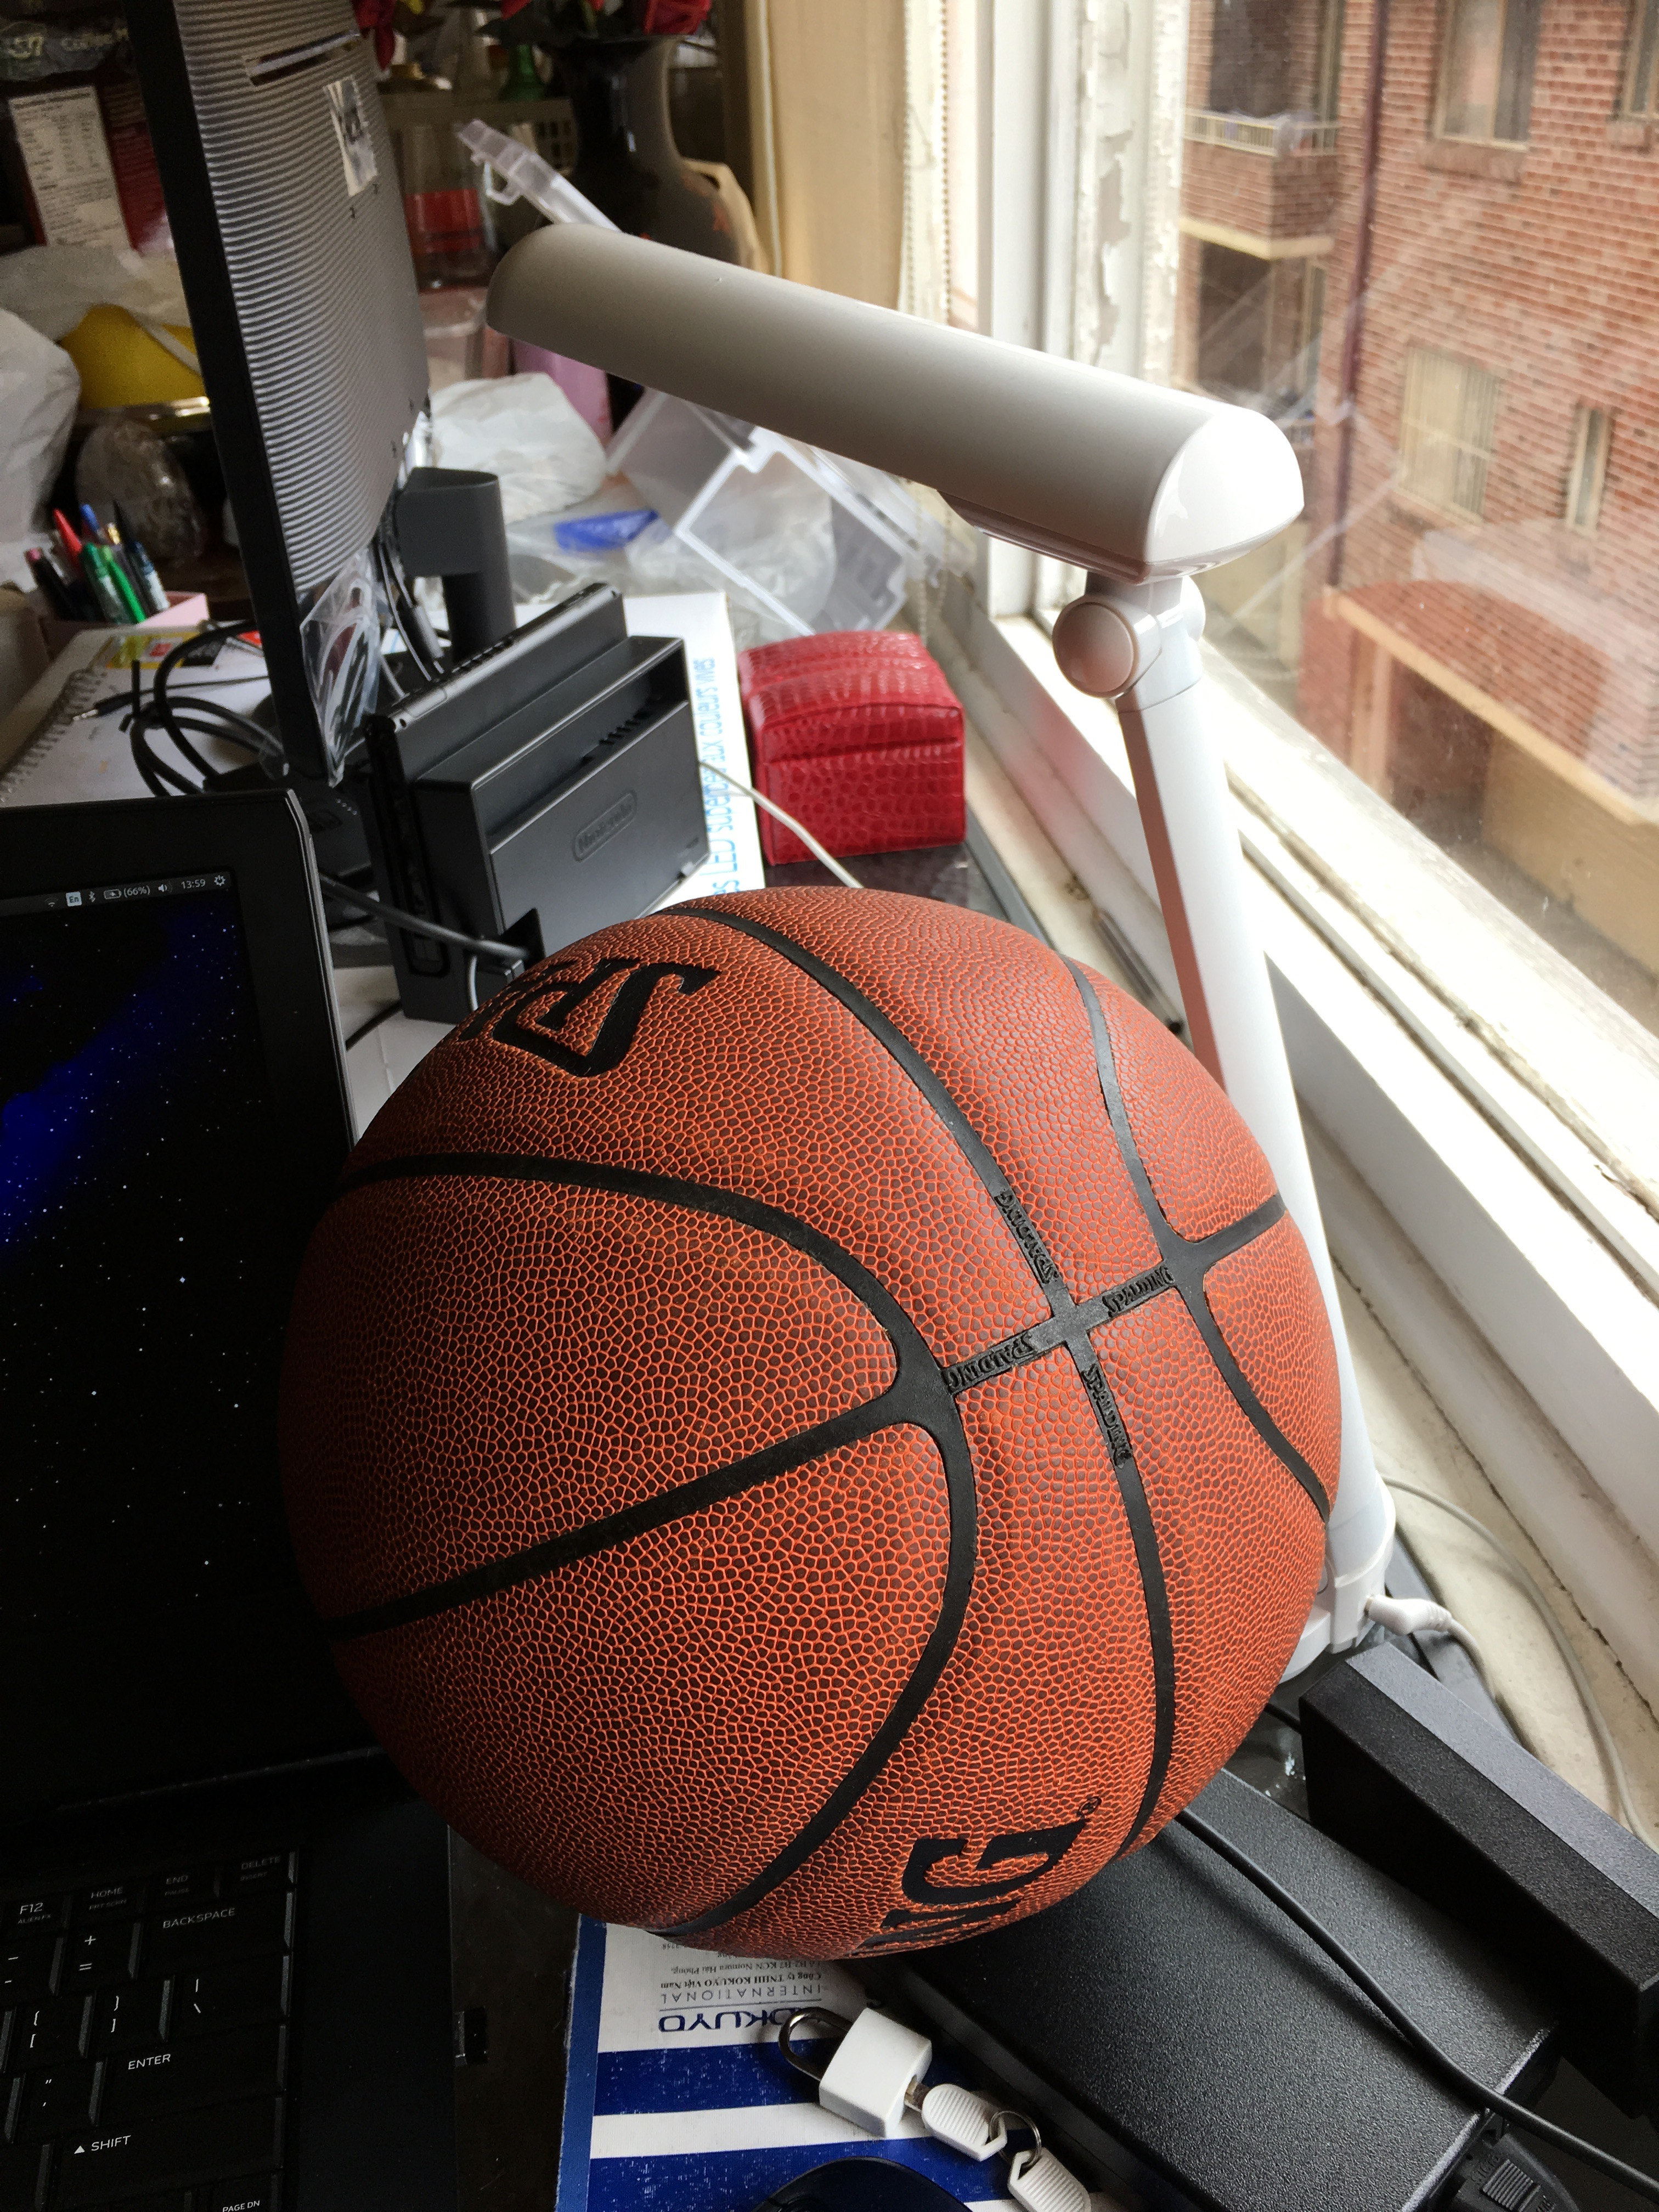Basketball: (242, 862, 1378, 1973)
